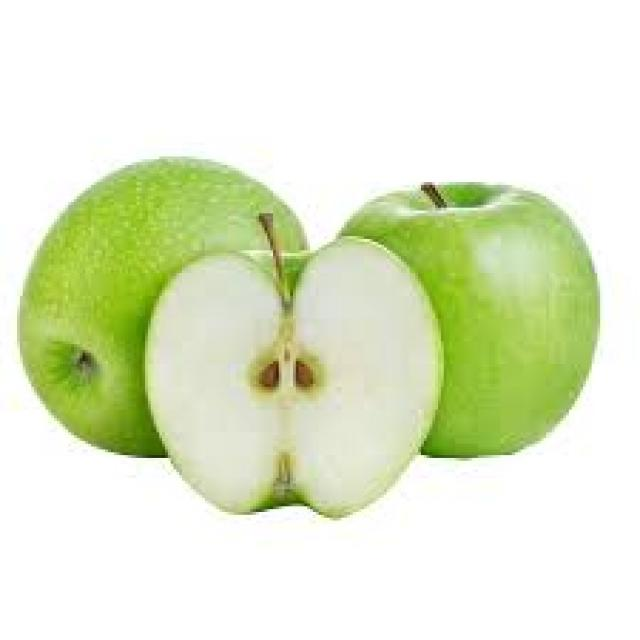Apple: (144, 244, 443, 516), (20, 152, 288, 434), (383, 190, 602, 463)
